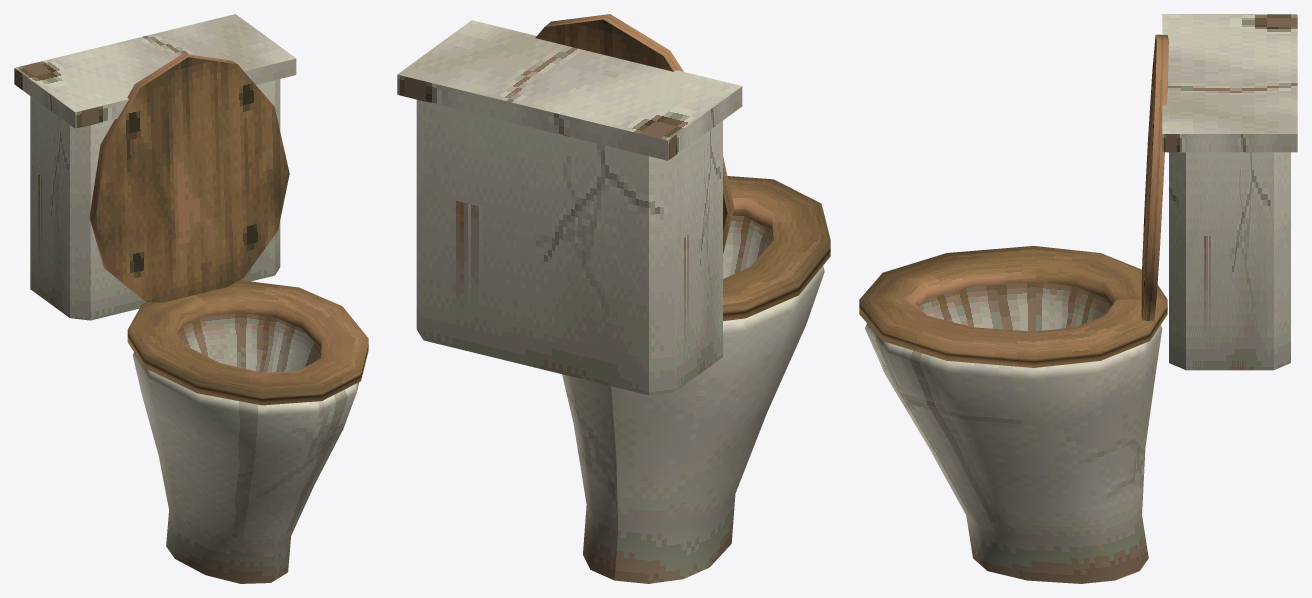
The model's file is toilet.glb.
The picture shows the model from 3 angles, left to right: view 1: azimuth 30°, elevation 25°; view 2: azimuth 150°, elevation 25°; view 3: azimuth 270°, elevation 25°; orthographic projection. The views are drawn at different scales.
Parts seen in each view (by area): view 1: toilet; view 2: toilet; view 3: toilet.
Part boxes in pixels (box(x1,y1,x2,y2)): toilet: box(14, 14, 368, 583); toilet: box(397, 14, 830, 583); toilet: box(859, 14, 1297, 583).
Size of the model in its own units: 0.42 by 0.8447 by 0.648.
1 material, 1 textured.
